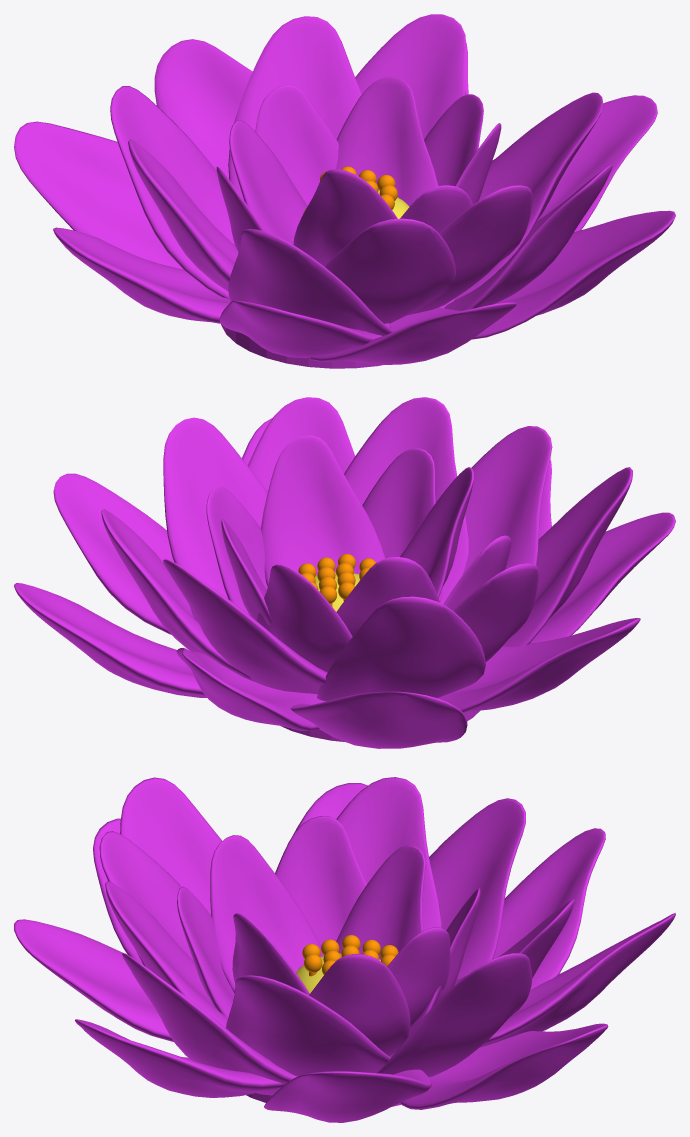
The model's file is lf-magenta.gltf.
3 renders of one model, top to bottom at view 1: azimuth 30°, elevation 25°; view 2: azimuth 150°, elevation 25°; view 3: azimuth 270°, elevation 25°, orthographic.
Visible parts, largest first — view 1: petal04, pollen; view 2: petal04, pollen; view 3: petal04, pollen.
Part boxes in pixels (x1=…): petal04: x1=14, y1=14, x2=675, y2=368; pollen: x1=320, y1=166, x2=397, y2=209; petal04: x1=14, y1=397, x2=675, y2=748; pollen: x1=298, y1=554, x2=375, y2=606; petal04: x1=14, y1=777, x2=675, y2=1122; pollen: x1=302, y1=935, x2=398, y2=976.
Bounding box in the file's own units: 1.19 × 0.3949 × 1.16.
